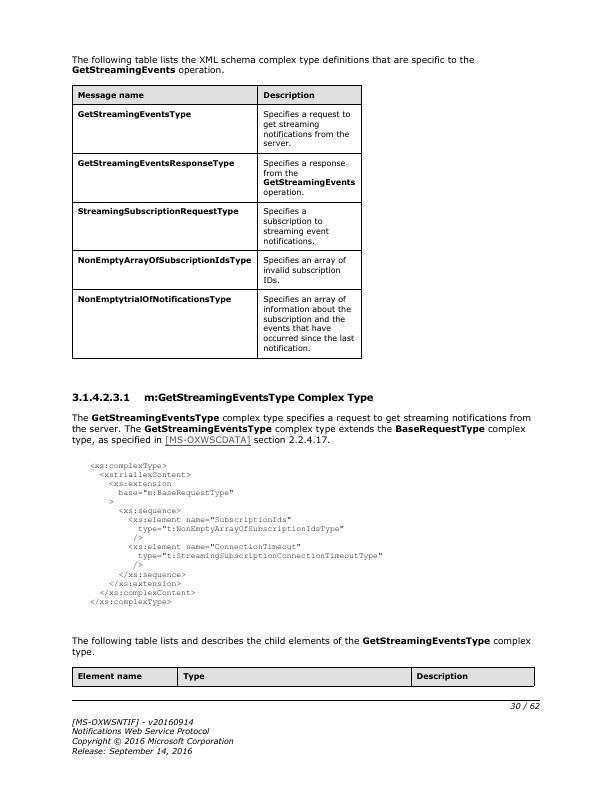table: (68, 83, 365, 361), (68, 664, 539, 691)
text: (86, 460, 386, 607), (68, 411, 533, 448), (68, 633, 533, 659), (68, 54, 479, 78), (70, 715, 236, 758), (66, 391, 377, 404)
